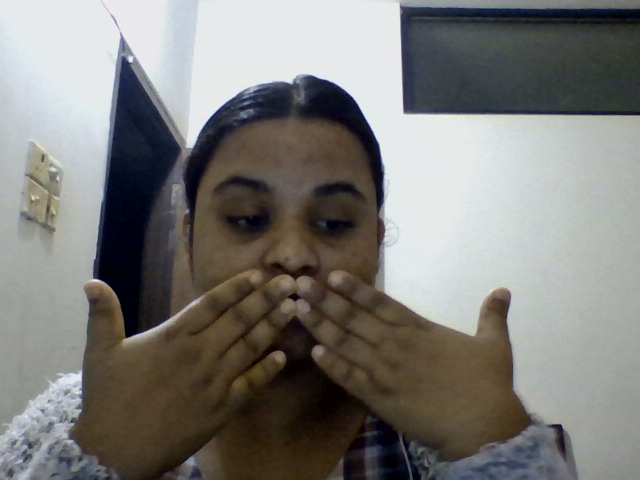Thank You: (20, 212, 559, 458)
